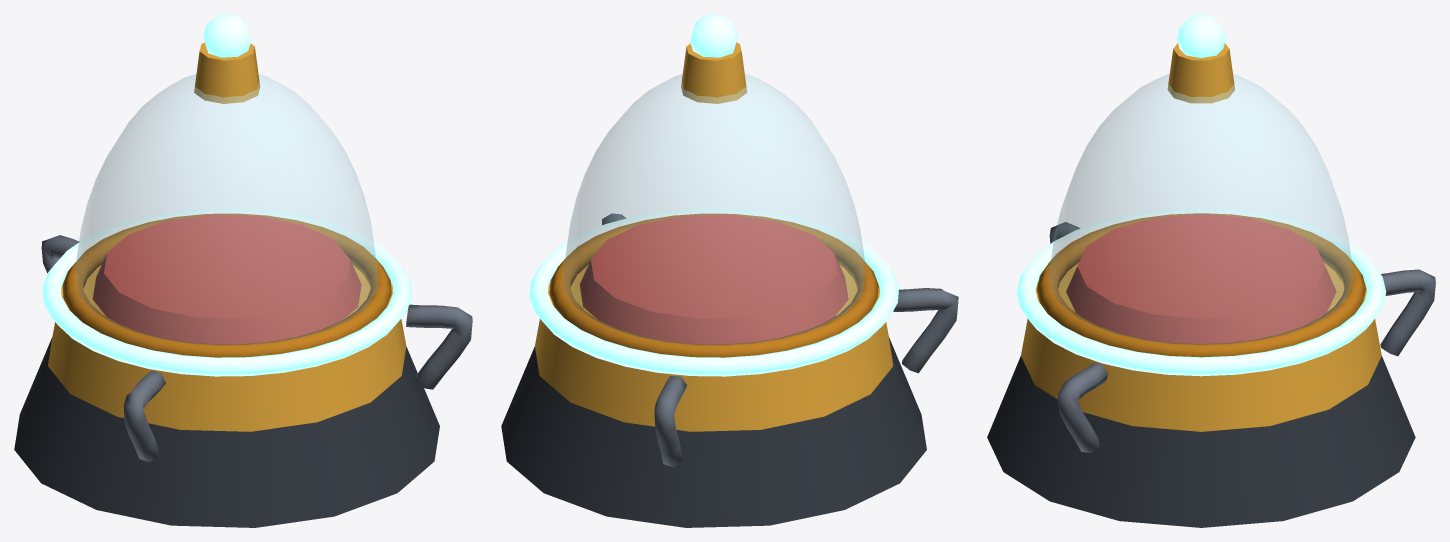
The model's file is Incubator.glb.
3 renders of one model, left to right at view 1: azimuth 30°, elevation 25°; view 2: azimuth 150°, elevation 25°; view 3: azimuth 270°, elevation 25°, orthographic.
Parts seen in each view (by area): view 1: Body, Glass, Glow; view 2: Body, Glass, Glow; view 3: Body, Glass, Glow.
Part boxes in pixels (x1,y1,x2,y2): Body: (14, 42, 472, 527); Glass: (76, 74, 377, 344); Glow: (42, 14, 411, 376); Body: (501, 42, 958, 527); Glass: (563, 74, 864, 344); Glow: (529, 14, 898, 376); Body: (987, 43, 1435, 527); Glass: (1050, 74, 1352, 344); Glow: (1016, 14, 1386, 376).
Bounding box in the file's own units: 3.8 × 4.12 × 3.98.
3 materials, 1 textured.
